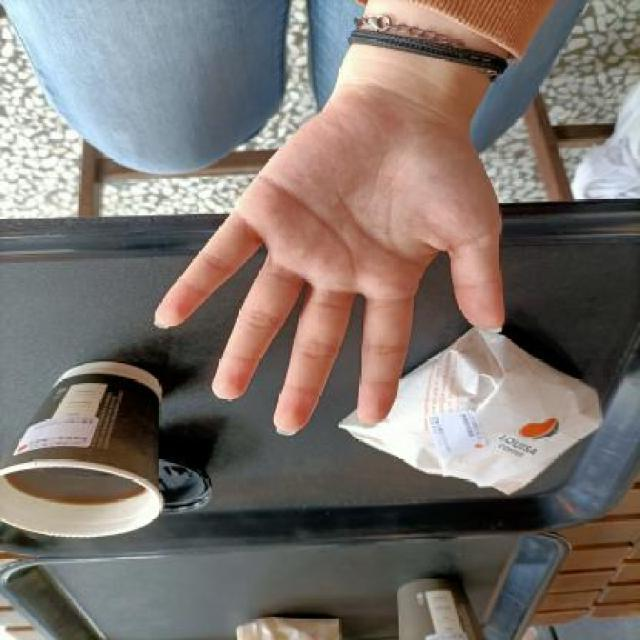bare_hand: (138, 78, 518, 454)
